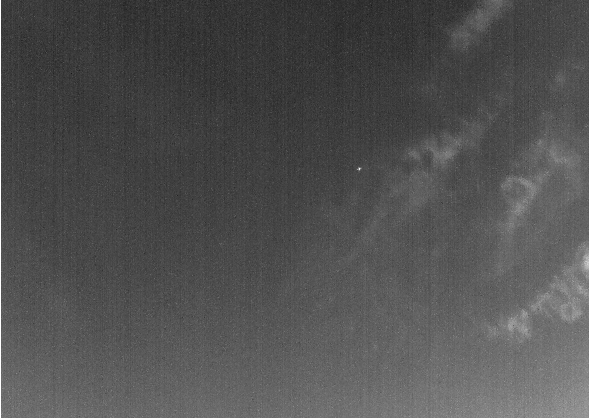dim target: (357, 166, 362, 172)
